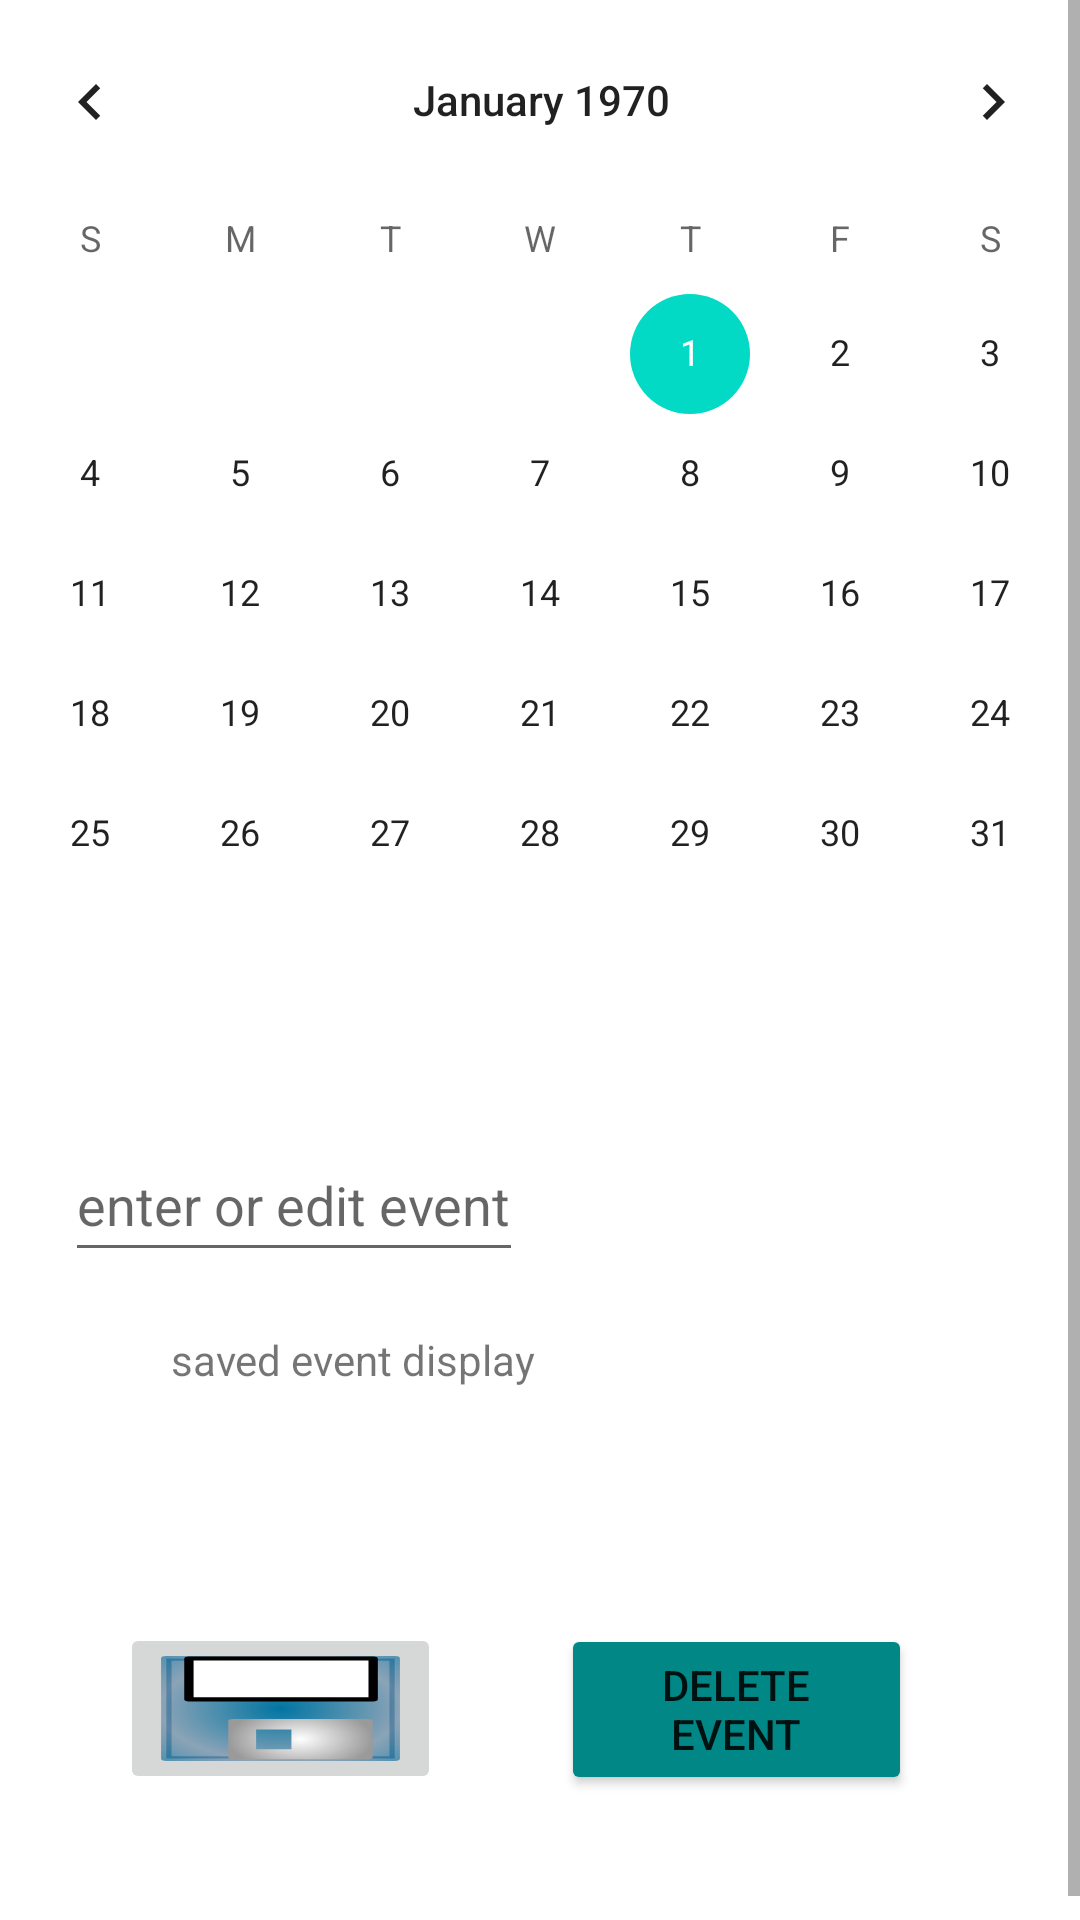

Icon bounding boxes for this 1080×1920 phone screenshot, format (x1, y1, x2, y2):
guardar: (132, 1641, 429, 1776)
